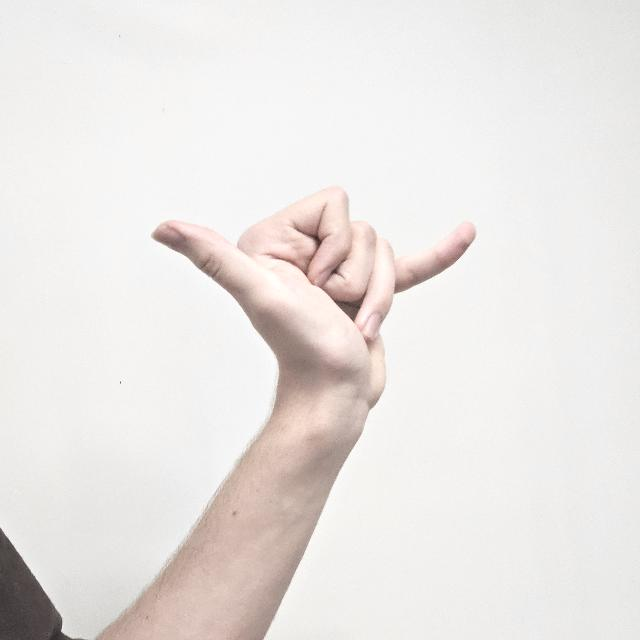Direita: (148, 184, 480, 413)
